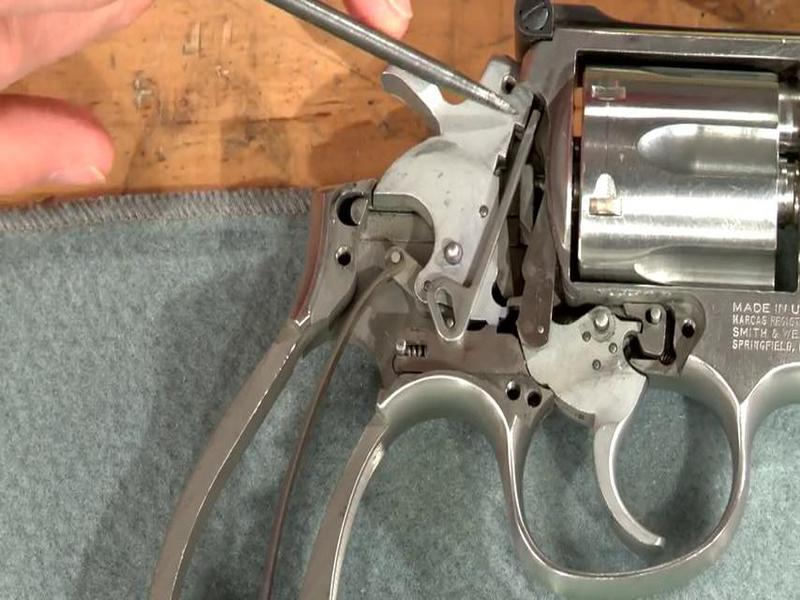Revolver: (160, 2, 800, 554)
